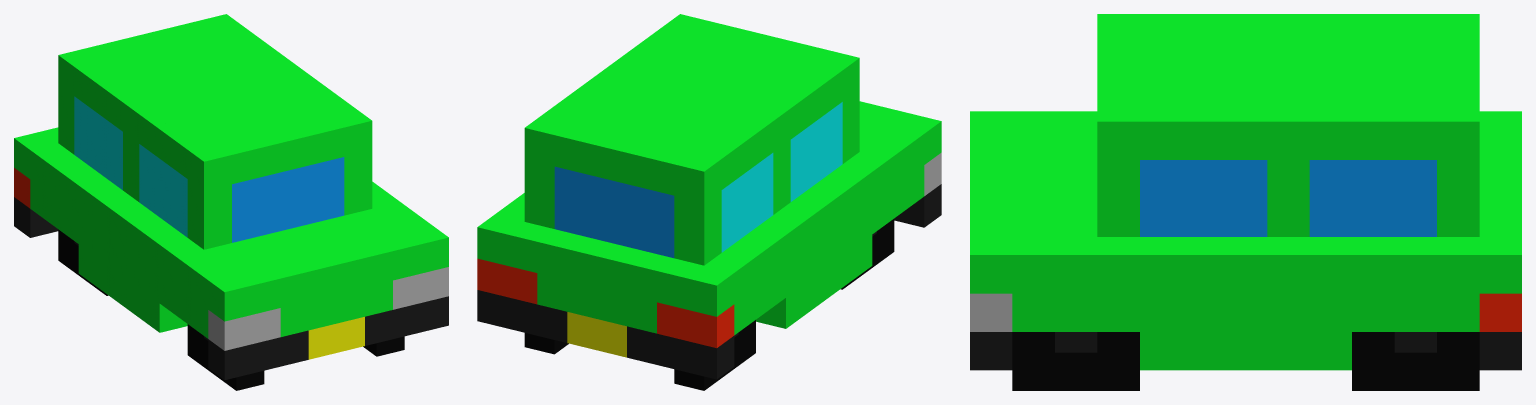
Rendered from Car_green_obj.obj.
The picture shows the model from 3 angles, left to right: view 1: azimuth 30°, elevation 25°; view 2: azimuth 150°, elevation 25°; view 3: azimuth 270°, elevation 25°; orthographic projection. The views are drawn at different scales.
Visible parts, largest first — view 1: 立方体.013; view 2: 立方体.013; view 3: 立方体.013.
Boxes of the visible parts, x1,y1,x2,y2 form: 立方体.013: [14, 14, 448, 390]; 立方体.013: [477, 14, 941, 390]; 立方体.013: [970, 14, 1521, 390].
Size of the model in its own units: 8 by 7 by 13.
